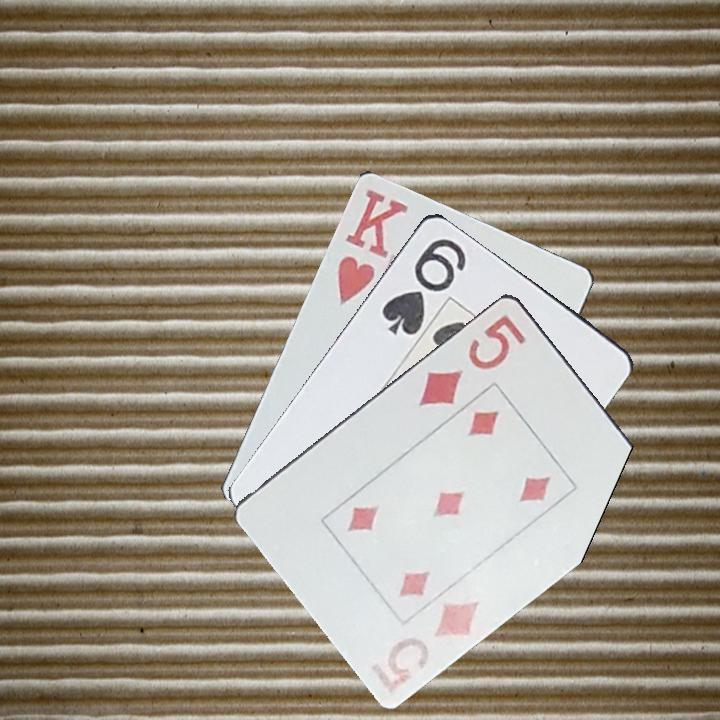5d: (415, 310, 529, 410), (383, 596, 482, 682)
6s: (377, 234, 470, 338)
Kh: (333, 184, 411, 309)
